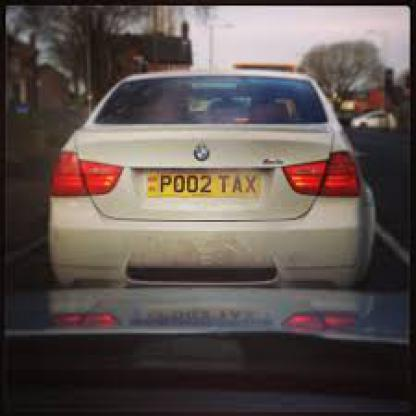car: (46, 69, 385, 292)
